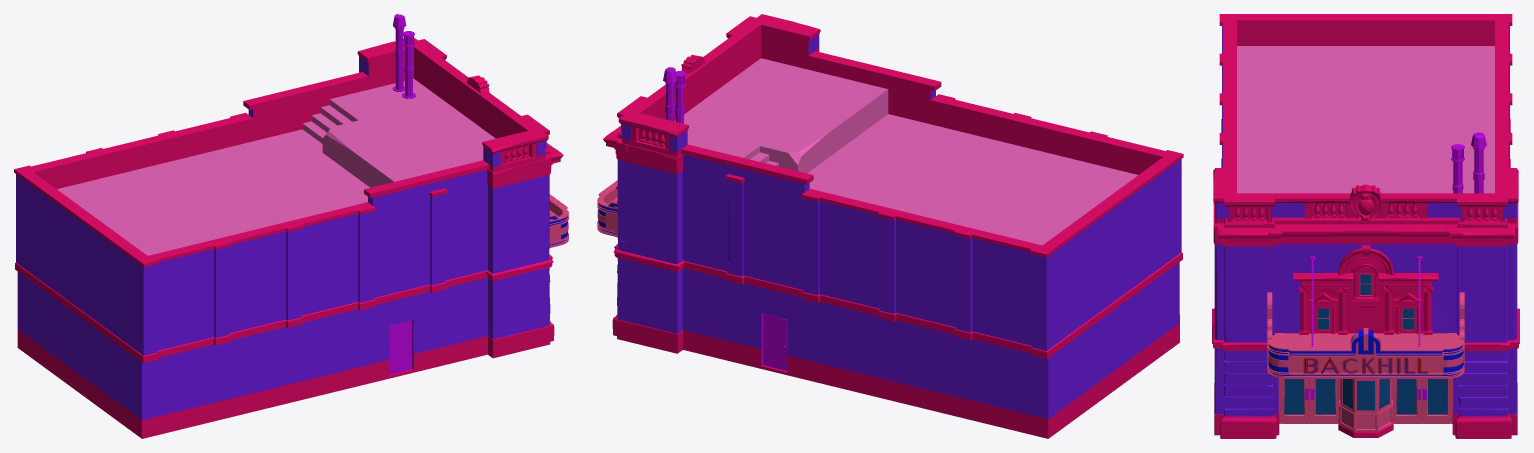
Rendered from Backhill_Theater00.fbx.
3 renders of one model, left to right at view 1: azimuth 30°, elevation 25°; view 2: azimuth 150°, elevation 25°; view 3: azimuth 270°, elevation 25°, orthographic. The views are drawn at different scales.
Parts seen in each view (by area): view 1: SM_Backhill_Theatre_01.mo; view 2: SM_Backhill_Theatre_01.mo; view 3: SM_Backhill_Theatre_01.mo.
Boxes of the visible parts, box(x1,y1,x2,y2) form: SM_Backhill_Theatre_01.mo: box(14, 14, 568, 438); SM_Backhill_Theatre_01.mo: box(597, 14, 1183, 438); SM_Backhill_Theatre_01.mo: box(1212, 14, 1519, 438).
Size of the model in its own units: 2019 by 1057 by 1045.
